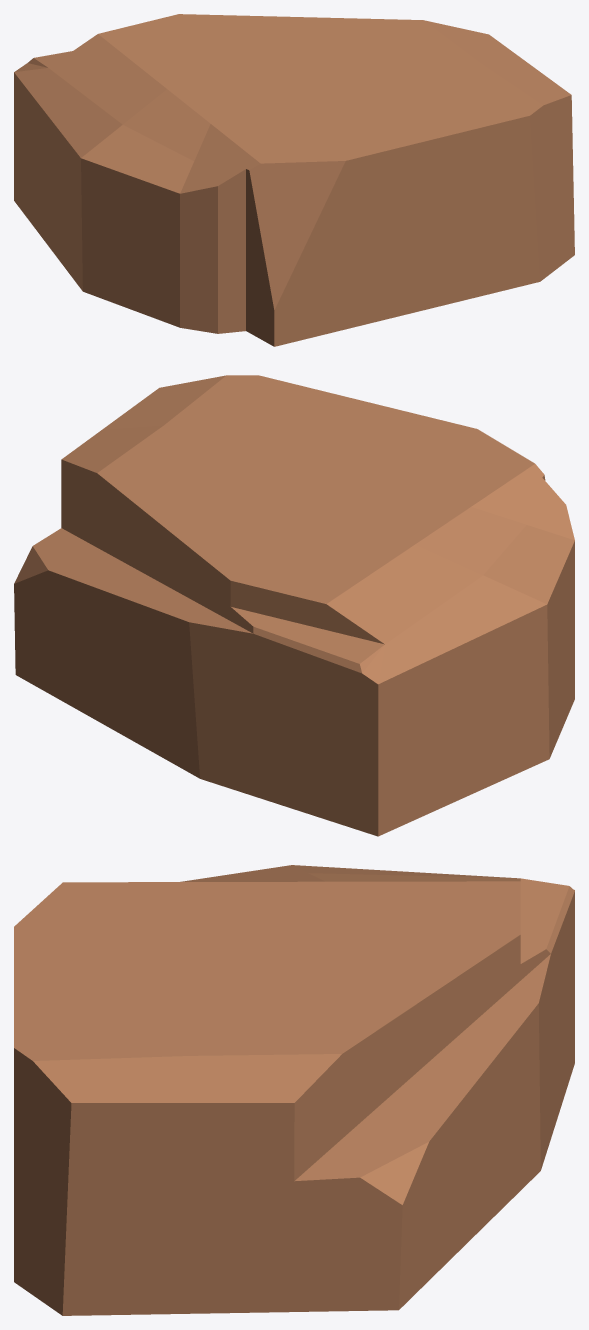
File: DesertRockSmall_01.fbx
3 renders of one model, top to bottom at view 1: azimuth 30°, elevation 25°; view 2: azimuth 150°, elevation 25°; view 3: azimuth 270°, elevation 25°, orthographic. The views are drawn at different scales.
Visible parts, largest first — view 1: smallRock_01; view 2: smallRock_01; view 3: smallRock_01.
Part boxes in pixels (left/top/right/bottom): smallRock_01: left=14, top=14, right=574, bottom=346; smallRock_01: left=14, top=375, right=574, bottom=836; smallRock_01: left=14, top=865, right=574, bottom=1315.
Size of the model in its own units: 220 by 89.06 by 194.
